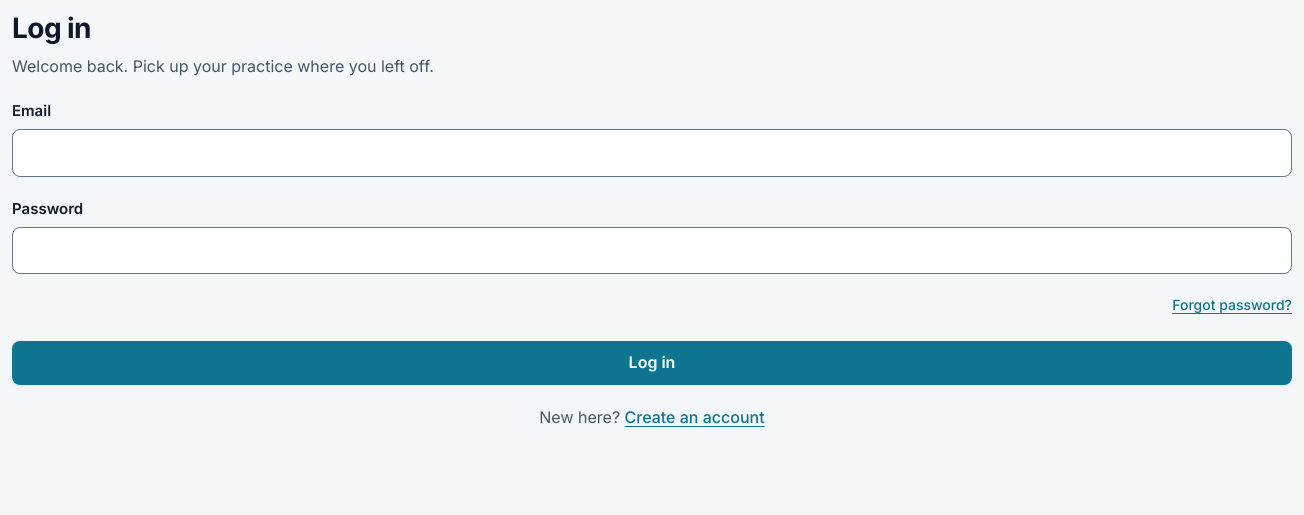
LoginForm › shows a generic message when the credentials are wrong
The image size is (1304, 515).
Type "ada@example.com" into the field labelled "Email" at (652, 153), box [12,129,1292,177]
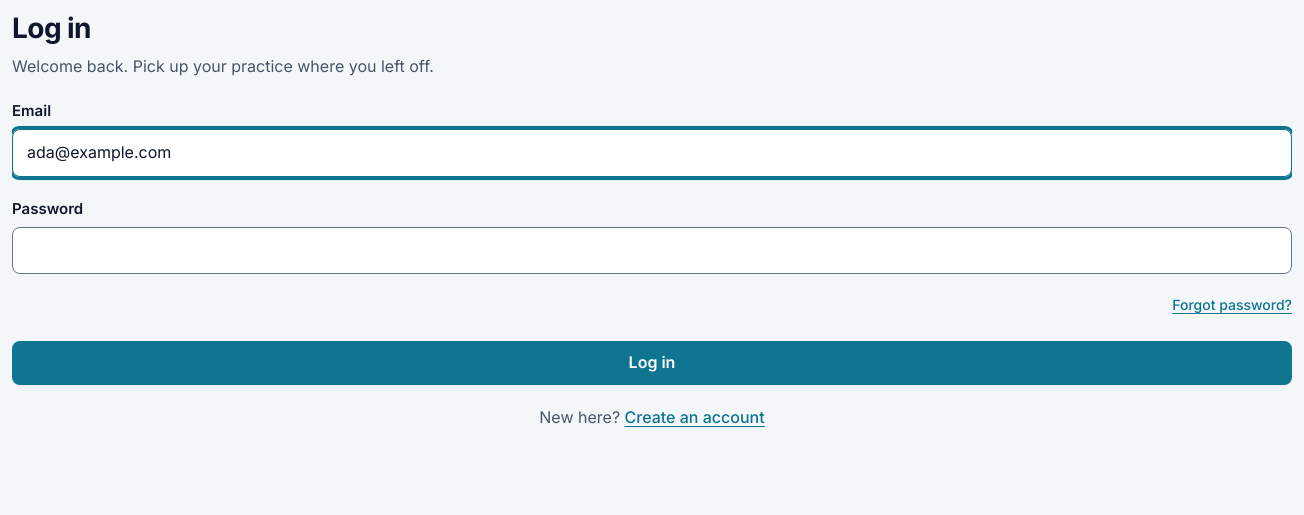
Type "wrong-password" into the password field labelled "Password" at (652, 251), box [12,227,1292,274]
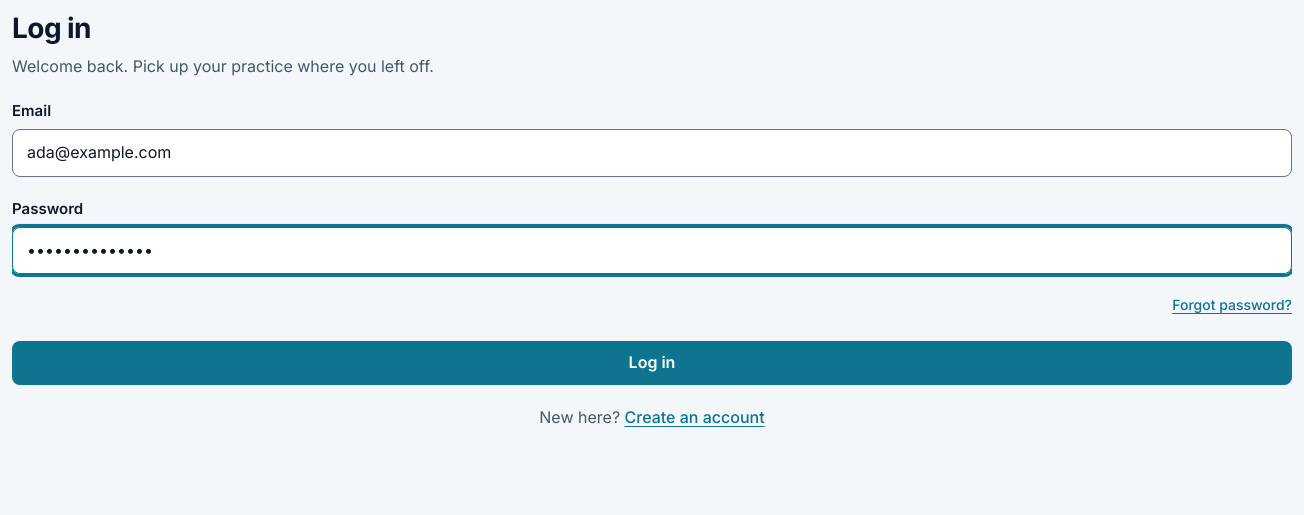
Click the button "Log in" at (652, 363), box [12,341,1292,385]
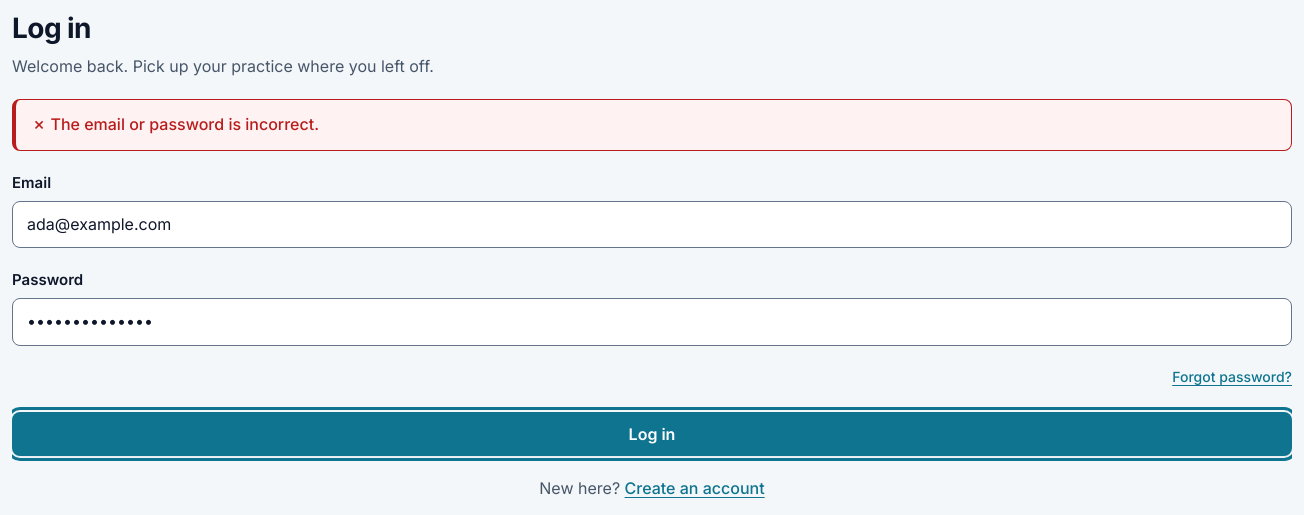
Now the message reads "The email or password is incorrect.", box [50,114,319,134]
